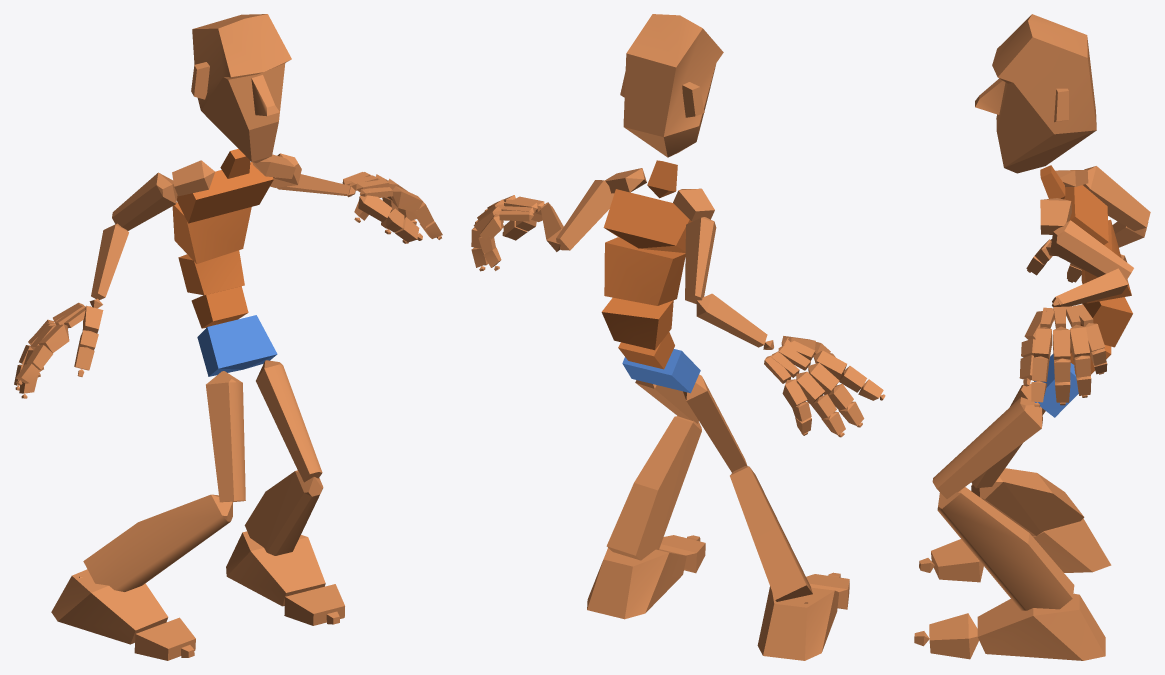
File: prueba38.obj
3 views of the same model, side by side, from view 1: azimuth 30°, elevation 25°; view 2: azimuth 150°, elevation 25°; view 3: azimuth 270°, elevation 25° (orthographic). The views are drawn at different scales.
Parts seen in each view (by area): view 1: BOPED_Head, BOPED_R_leg, BOPED_R_foot, BOPED_R_foot01, BOPED_R_legup, BOPED_L_leg, Bone01, BOPED_L_legup, Bone04, Bone05, Bone03, BOPED_R_arm_upper (+8 smaller); view 2: BOPED_Head, BOPED_L_leg, BOPED_R_foot01, BOPED_R_foot, BOPED_R_leg, Bone04, Bone05, Bone03, BOPED_R_legup, BOPED_R_arm_upper, BOPED_L_arm_upper, Bone01 (+9 smaller); view 3: BOPED_Head, BOPED_L_leg, BOPED_R_foot01, BOPED_R_leg, BOPED_L_legup, BOPED_R_foot, BOPED_L_arm_upper, BOPED_R_arm_upper, BOPED_R_foot_toe04, BOPED_R_foot_toe01, Bone05, Bone03 (+15 smaller).
Boxes of the visible parts, bbox=[...] form: BOPED_Head: bbox=[191, 14, 291, 163]; BOPED_R_leg: bbox=[83, 494, 232, 591]; BOPED_R_foot: bbox=[51, 569, 168, 644]; BOPED_R_foot01: bbox=[226, 531, 325, 606]; BOPED_R_legup: bbox=[206, 371, 245, 502]; BOPED_L_leg: bbox=[244, 470, 323, 555]; Bone01: bbox=[197, 315, 277, 376]; BOPED_L_legup: bbox=[256, 360, 322, 482]; Bone04: bbox=[172, 202, 251, 263]; Bone05: bbox=[177, 162, 273, 223]; Bone03: bbox=[178, 250, 244, 295]; BOPED_R_arm_upper: bbox=[112, 172, 177, 230]; BOPED_Head: bbox=[620, 14, 723, 157]; BOPED_L_leg: bbox=[606, 416, 701, 560]; BOPED_R_foot01: bbox=[587, 548, 686, 619]; BOPED_R_foot: bbox=[757, 586, 839, 660]; BOPED_R_leg: bbox=[730, 466, 812, 601]; Bone04: bbox=[604, 237, 685, 305]; Bone05: bbox=[603, 189, 692, 253]; Bone03: bbox=[601, 297, 673, 350]; BOPED_R_legup: bbox=[683, 374, 747, 472]; BOPED_R_arm_upper: bbox=[685, 217, 716, 303]; BOPED_L_arm_upper: bbox=[556, 180, 614, 250]; Bone01: bbox=[622, 349, 700, 393]; BOPED_Head: bbox=[975, 14, 1096, 173]; BOPED_L_leg: bbox=[937, 487, 1074, 610]; BOPED_R_foot01: bbox=[977, 593, 1105, 660]; BOPED_R_leg: bbox=[971, 468, 1084, 536]; BOPED_L_legup: bbox=[932, 397, 1042, 498]; BOPED_R_foot: bbox=[1032, 518, 1111, 572]; BOPED_L_arm_upper: bbox=[1050, 220, 1133, 279]; BOPED_R_arm_upper: bbox=[1083, 166, 1150, 230]; BOPED_R_foot_toe04: bbox=[929, 613, 978, 659]; BOPED_R_foot_toe01: bbox=[931, 539, 983, 582]; Bone05: bbox=[1064, 185, 1108, 244]; Bone03: bbox=[1080, 297, 1132, 347].
Bounding box in the file's own units: 130 × 173 × 61.
